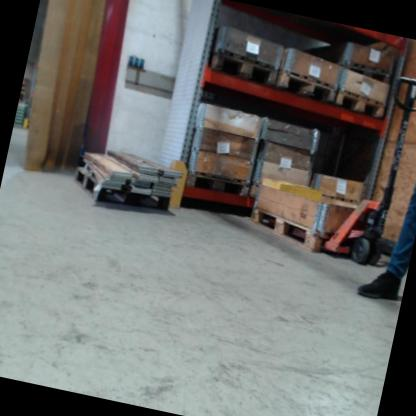pallet: (67, 163, 174, 218), (244, 205, 329, 255), (206, 47, 281, 90), (273, 67, 339, 106), (184, 170, 251, 201), (334, 87, 388, 122), (343, 60, 394, 85)
pallet_truck: (321, 64, 416, 270)
